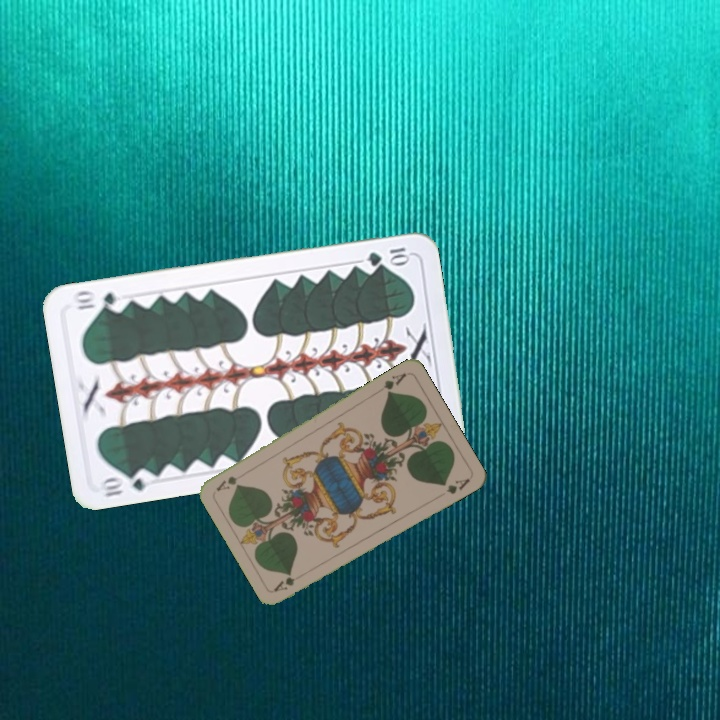G10: (95, 466, 156, 500), (363, 243, 413, 269)
GA: (270, 568, 308, 594), (379, 369, 409, 397)
